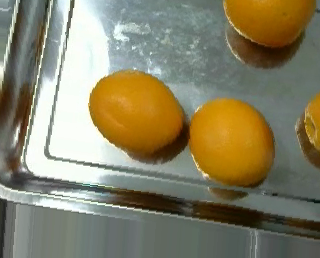Orange: (89, 69, 185, 156), (189, 97, 275, 188)
